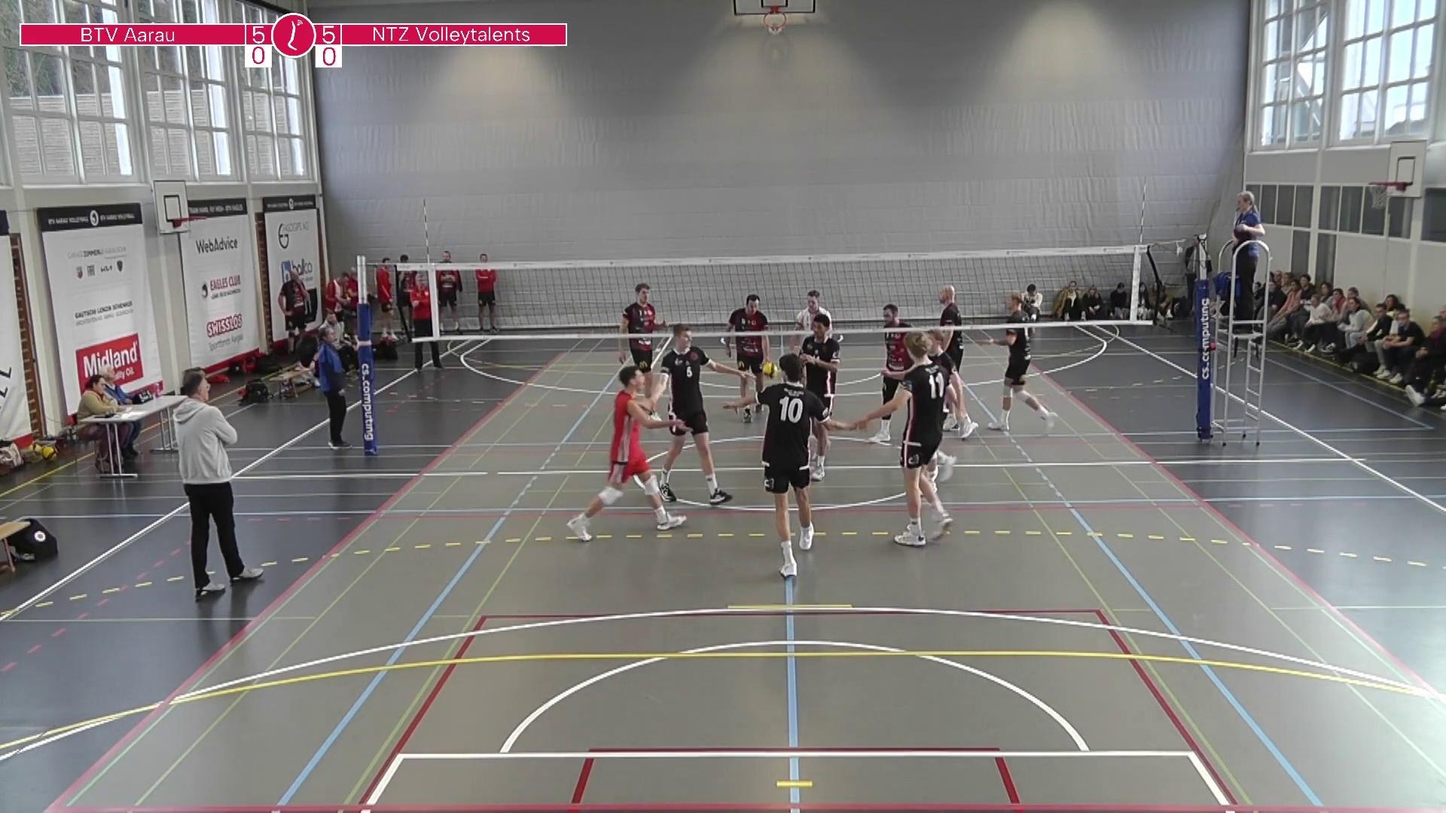Player: (565, 365, 688, 540), (746, 352, 836, 580), (862, 339, 954, 546), (655, 327, 733, 506), (987, 293, 1054, 431), (798, 312, 844, 482), (932, 285, 979, 439), (868, 304, 914, 446), (725, 294, 770, 422), (620, 282, 659, 399), (798, 290, 828, 344)
ball: (758, 358, 782, 383)
